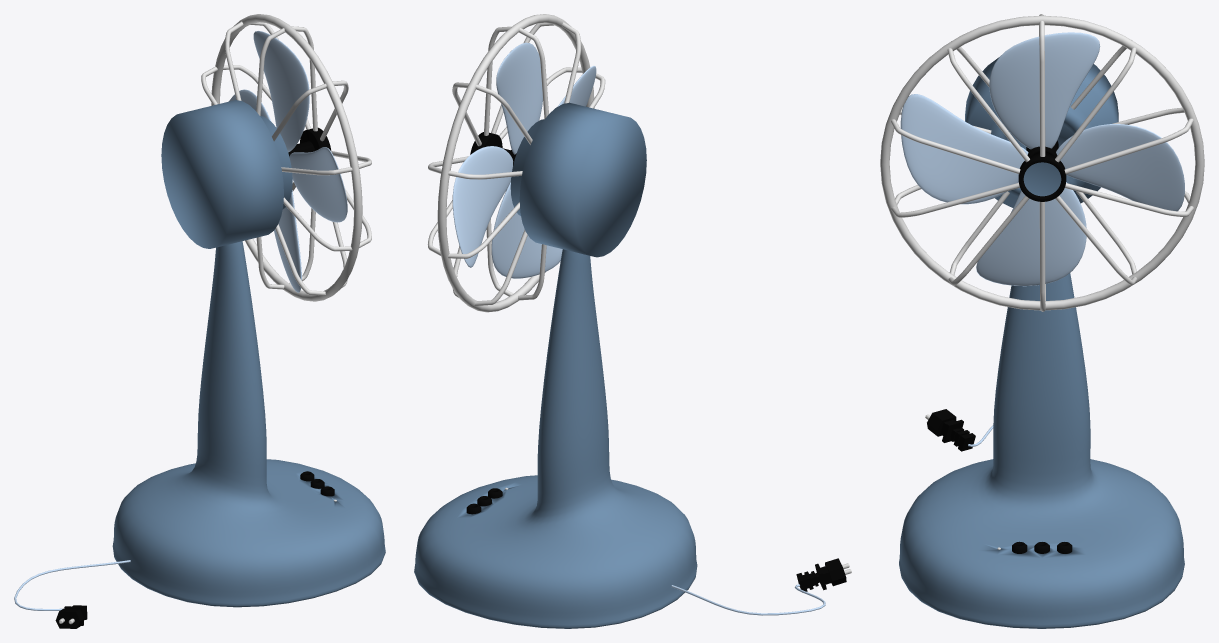
File: fan.fbx
3 views of the same model, side by side, from view 1: azimuth 30°, elevation 25°; view 2: azimuth 150°, elevation 25°; view 3: azimuth 270°, elevation 25° (orthographic). The views are drawn at different scales.
Parts seen in each view (by area): view 1: Plane.024; view 2: Plane.024; view 3: Plane.024.
Part boxes in pixels (box(x1,y1,x2,y2)): Plane.024: box(14, 14, 385, 628); Plane.024: box(414, 14, 851, 628); Plane.024: box(880, 14, 1204, 628).
Size of the model in its own units: 378 by 517 by 266.
